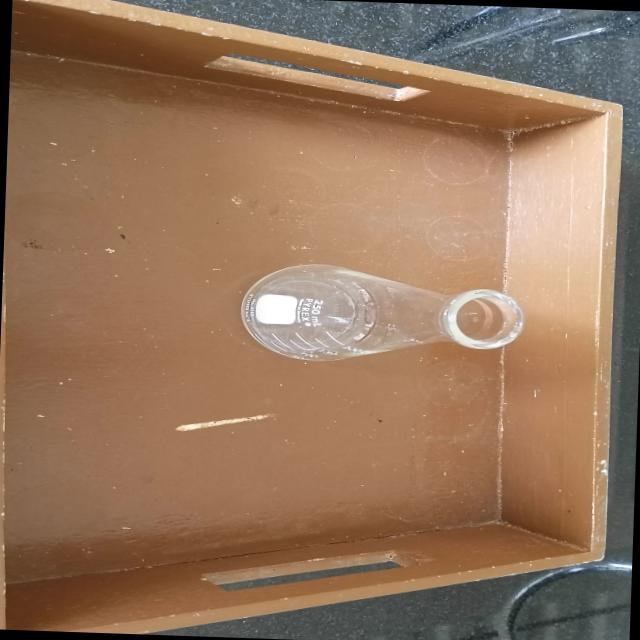erlenmeyer_flask: (232, 256, 526, 372)
